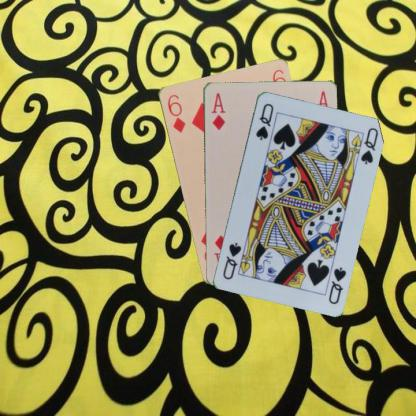6d: (164, 91, 186, 134)
Ad: (208, 90, 226, 131)
Qs: (253, 101, 275, 141), (326, 264, 347, 305)
